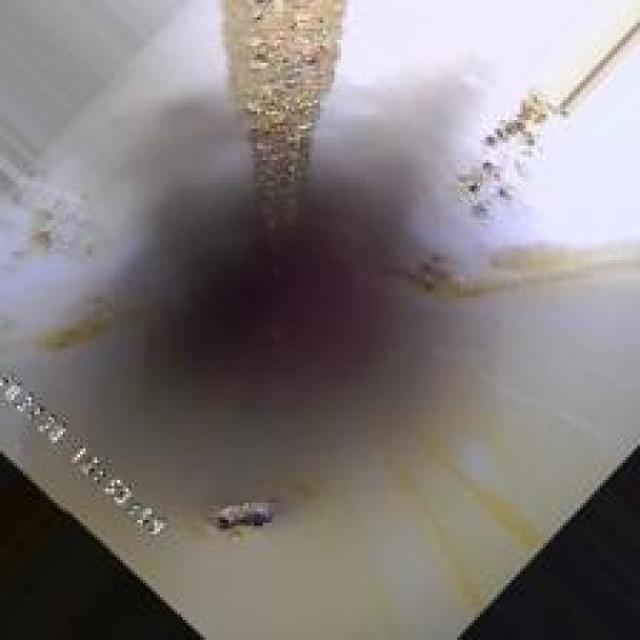ferrule: (203, 491, 280, 540)
